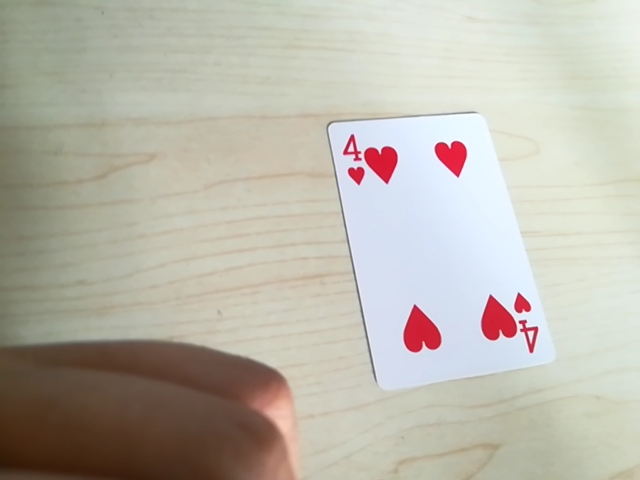hx 4: (338, 128, 382, 194), (504, 289, 541, 361)
